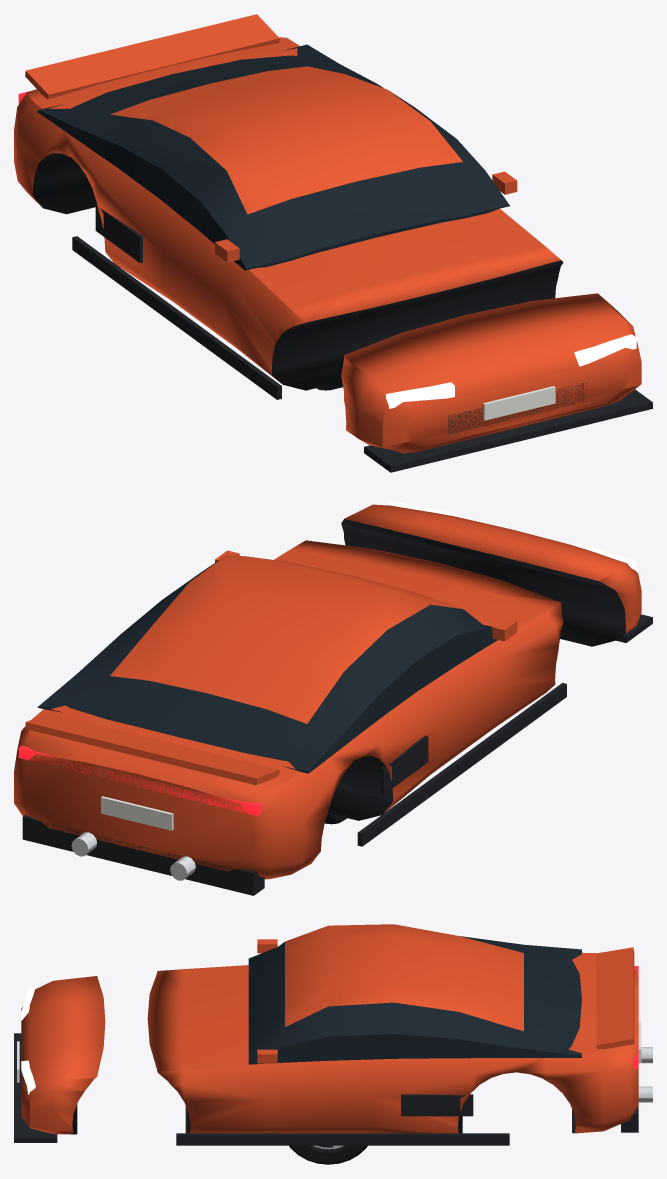
The model's file is sport.glb.
3 views of the same model, one above another, from view 1: azimuth 30°, elevation 25°; view 2: azimuth 150°, elevation 25°; view 3: azimuth 270°, elevation 25° (orthographic). The views are drawn at different scales.
Parts seen in each view (by area): view 1: body; view 2: body; view 3: body, wheel.
Boxes of the visible parts, x1,y1,x2,y2 form: body: [14, 14, 652, 472]; body: [14, 501, 652, 895]; body: [14, 924, 652, 1145]; wheel: [289, 1145, 367, 1164].
Size of the model in its own units: 1.88 by 1.53 by 4.41.
